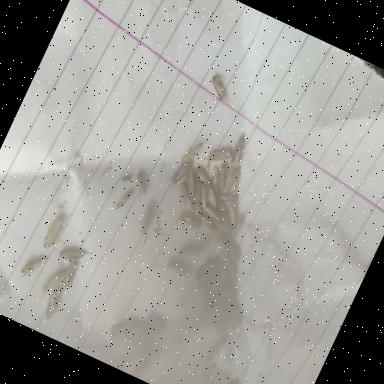pbw: (192, 246, 226, 287), (175, 233, 213, 269), (219, 296, 254, 334), (204, 73, 241, 108), (38, 282, 68, 324), (39, 213, 69, 254), (108, 308, 140, 346), (36, 262, 66, 302), (205, 262, 234, 302), (199, 254, 227, 294), (18, 249, 49, 285), (208, 295, 238, 332), (134, 202, 163, 240), (202, 328, 231, 366), (196, 287, 224, 326), (211, 231, 244, 264), (203, 139, 237, 171), (57, 242, 93, 272), (108, 184, 138, 220), (180, 138, 210, 172), (166, 154, 194, 190), (163, 255, 197, 284), (221, 163, 247, 197), (226, 134, 252, 168), (210, 161, 235, 195), (132, 318, 164, 344), (57, 257, 82, 290), (178, 170, 204, 200), (200, 204, 233, 226), (204, 165, 228, 195), (208, 212, 236, 236), (186, 175, 210, 203), (192, 180, 216, 208), (213, 186, 240, 210), (191, 164, 218, 188), (143, 311, 171, 334), (176, 208, 204, 231), (172, 182, 196, 208), (196, 212, 222, 234), (211, 370, 251, 384), (201, 186, 223, 210), (222, 204, 244, 228), (130, 172, 152, 195), (186, 198, 206, 219)
